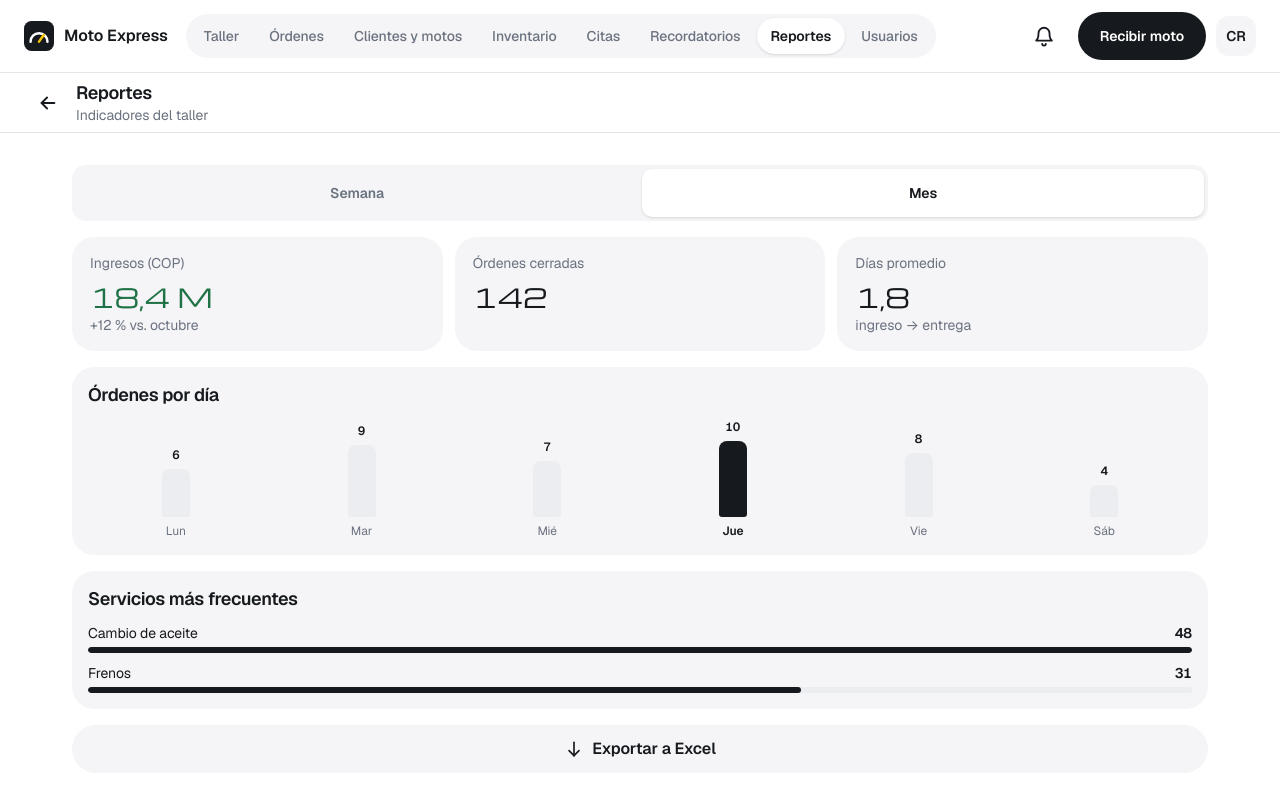
HU-71 · Reportes del taller › muestra las lecturas del mes y cambia a la semana
Check: the text "18,4 M" is shown, box [90,278,213,315]
Check: the text "+12 % vs. octubre" is shown, box [90,316,198,334]
Click the tab "Semana": (357, 193) [76,169,638,217]
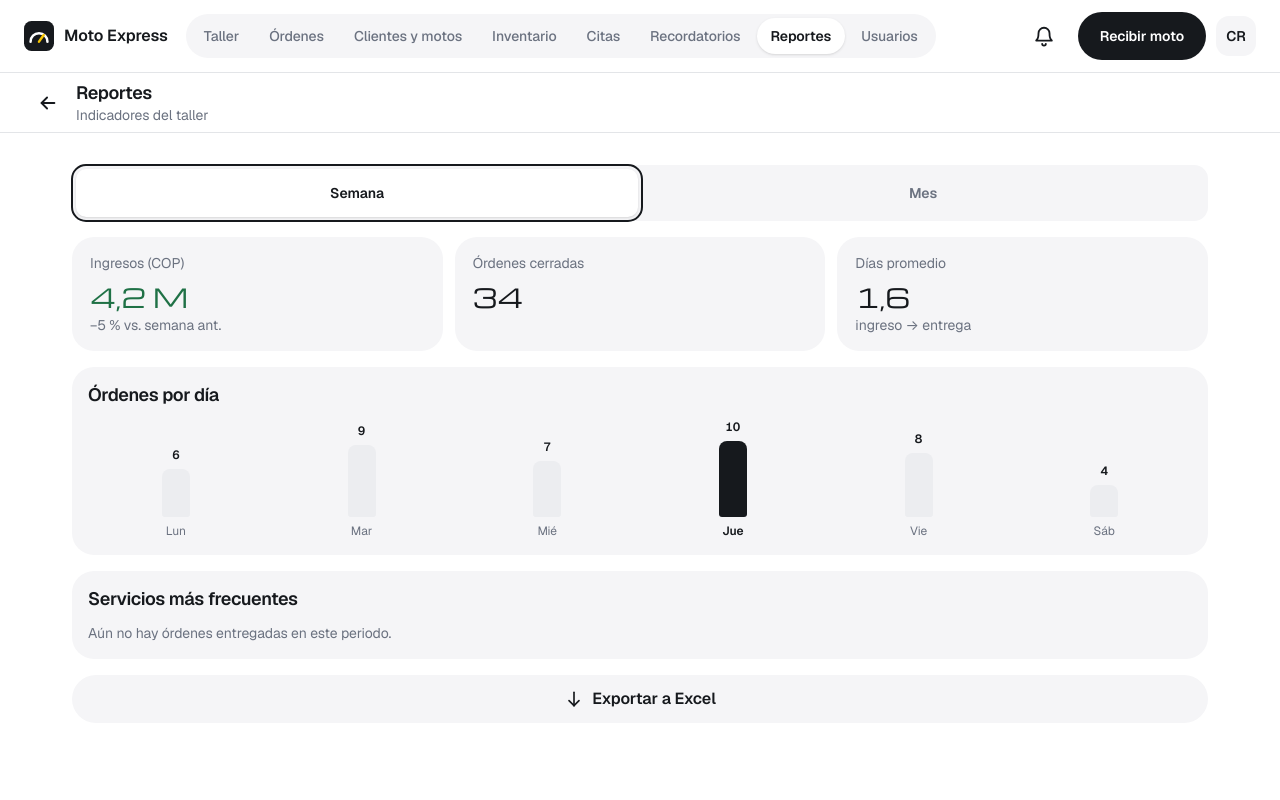
Check: the text "4,2 M" is shown, box [90,278,188,315]
Check: the text "−5 % vs. semana ant." is shown, box [90,316,221,334]
Check: the text "Aún no hay órdenes entregadas en este periodo." is shown, box [88,624,391,642]
